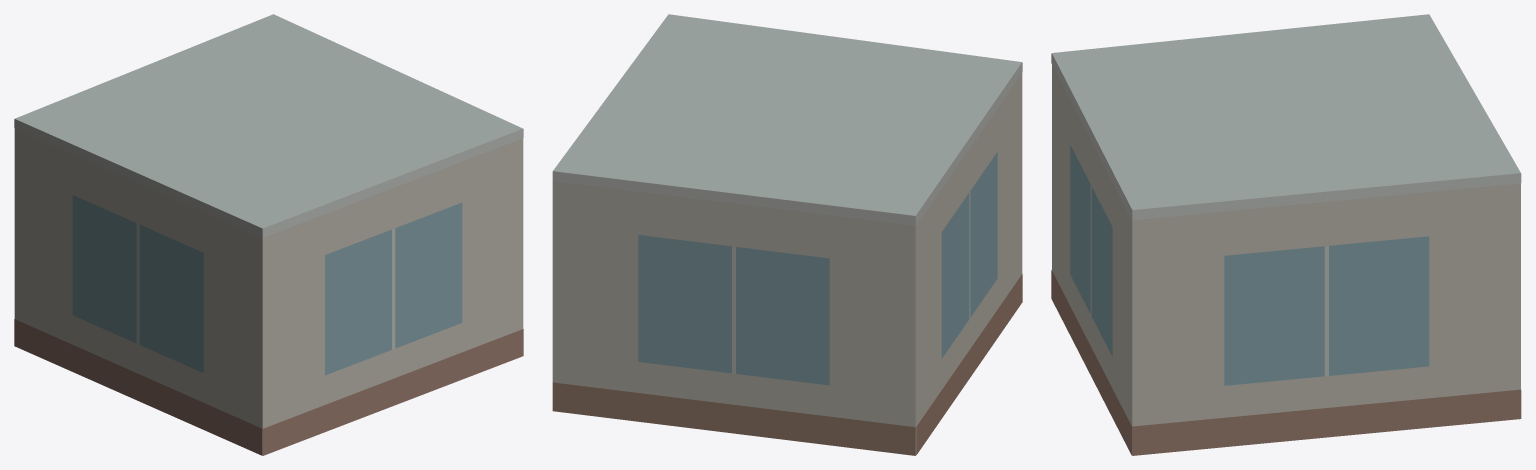
Rendered from survey-upis-32464341.glb.
3 renders of one model, left to right at view 1: azimuth 30°, elevation 25°; view 2: azimuth 150°, elevation 25°; view 3: azimuth 270°, elevation 25°, orthographic. The views are drawn at different scales.
Visible parts, largest first — view 1: survey-upis-32464341.tmp; view 2: survey-upis-32464341.tmp; view 3: survey-upis-32464341.tmp.
Boxes of the visible parts, x1=… form: survey-upis-32464341.tmp: x1=14, y1=14, x2=523, y2=455; survey-upis-32464341.tmp: x1=552, y1=14, x2=1022, y2=455; survey-upis-32464341.tmp: x1=1051, y1=14, x2=1521, y2=455.
Bounding box in the file's own units: 5.23 × 3.05 × 5.29.
